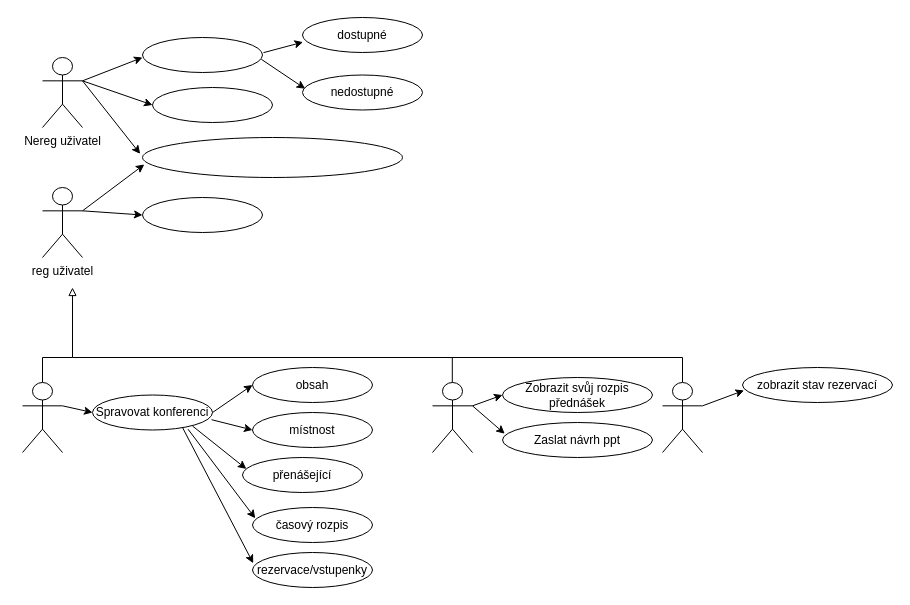
The diagram is 910 pixels wide and 605 high, and some of its shapes have lost their labels. The shapes that lost their labels are listed below. From the top down, each one's centre as x and y in pixels, then its label:
At (202,54): "Zobrazit konference".
At (212,104): "Registrovat se".
At (272,157): "Zarezervovat vstupenku/y na konferenci".
At (202,214): "Založit konferenci".
At (42,417): "Pořadatel".
At (452,417): "přednášející".
At (682,417): "návštěvník".
